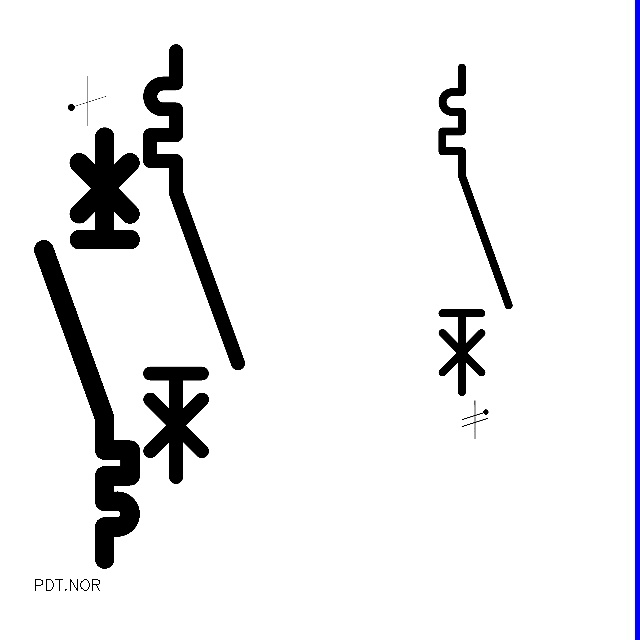interruptor_termomagnetico: (139, 40, 248, 488), (33, 126, 141, 569), (434, 59, 517, 400)
